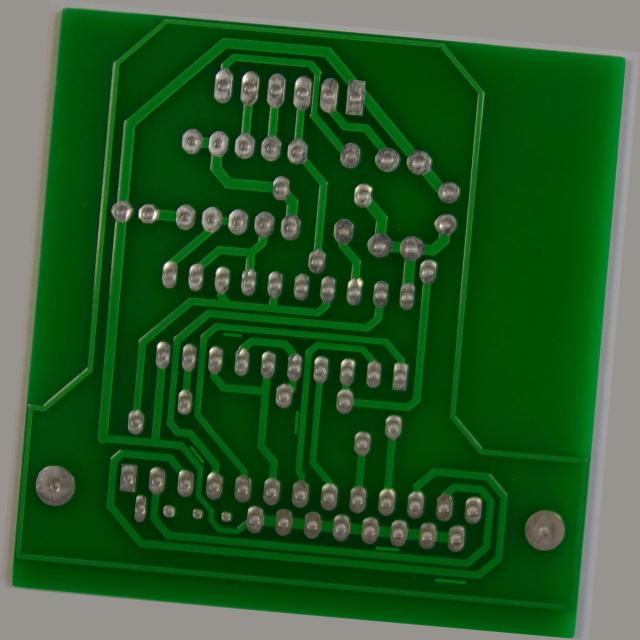spurious_copper: (465, 580, 506, 599), (188, 464, 213, 491), (397, 552, 430, 569), (296, 416, 310, 449), (211, 336, 241, 351)
